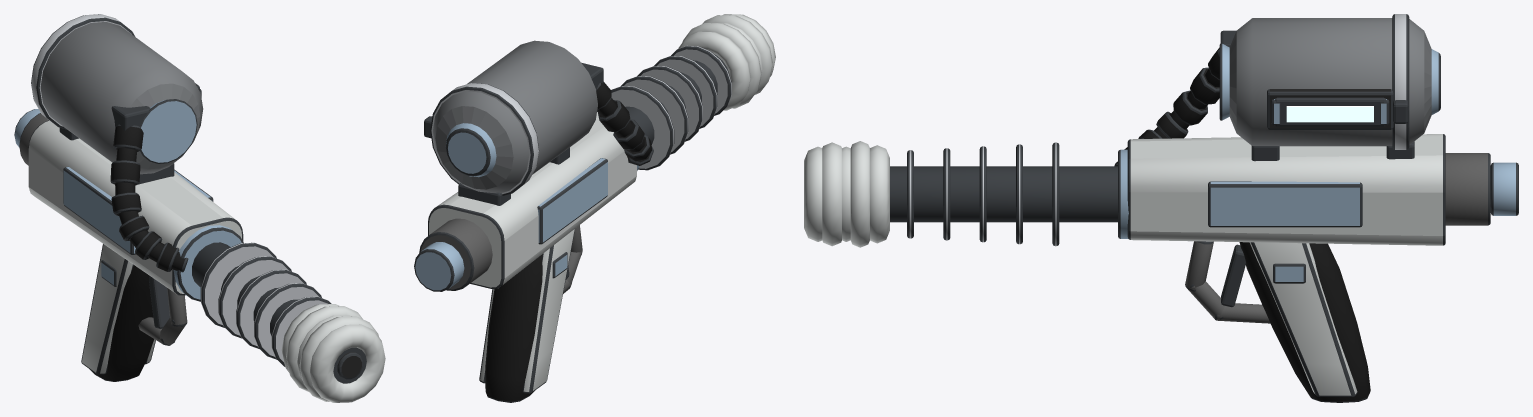
Rendered from cryo_sprayer.fbx.
3 renders of one model, left to right at view 1: azimuth 30°, elevation 25°; view 2: azimuth 150°, elevation 25°; view 3: azimuth 270°, elevation 25°, orthographic. The views are drawn at different scales.
Visible parts, largest first — view 1: Mesh_CryoSprayer_Bottle, Mesh_CryoSprayer_Body, Mesh_CryoSprayer_Barrel, Mesh_CryoSprayer_Grip, Mesh_CryoSprayer_Rime, Mesh_CryoSprayer_Line, Mesh_CryoSprayer_Saddle, Mesh_CryoSprayer_Breech; view 2: Mesh_CryoSprayer_Bottle, Mesh_CryoSprayer_Body, Mesh_CryoSprayer_Grip, Mesh_CryoSprayer_Barrel, Mesh_CryoSprayer_Rime, Mesh_CryoSprayer_Breech, Mesh_CryoSprayer_Saddle, Mesh_CryoSprayer_Line; view 3: Mesh_CryoSprayer_Body, Mesh_CryoSprayer_Bottle, Mesh_CryoSprayer_Grip, Mesh_CryoSprayer_Barrel, Mesh_CryoSprayer_Rime, Mesh_CryoSprayer_Gauge, Mesh_CryoSprayer_Breech, Mesh_CryoSprayer_Saddle, Mesh_CryoSprayer_Line.
Part boxes in pixels (x1,y1,x2,y2): Mesh_CryoSprayer_Bottle: (40,22,203,174); Mesh_CryoSprayer_Body: (28,120,243,301); Mesh_CryoSprayer_Barrel: (192,242,366,383); Mesh_CryoSprayer_Grip: (81,244,187,381); Mesh_CryoSprayer_Rime: (281,304,385,402); Mesh_CryoSprayer_Line: (110,124,188,272); Mesh_CryoSprayer_Saddle: (31,14,174,184); Mesh_CryoSprayer_Breech: (14,109,48,165); Mesh_CryoSprayer_Bottle: (433,40,603,192); Mesh_CryoSprayer_Body: (428,112,639,288); Mesh_CryoSprayer_Grip: (479,225,582,402); Mesh_CryoSprayer_Barrel: (597,45,731,170); Mesh_CryoSprayer_Rime: (678,14,775,110); Mesh_CryoSprayer_Breech: (414,218,492,291); Mesh_CryoSprayer_Saddle: (424,83,569,205); Mesh_CryoSprayer_Line: (596,82,653,165); Mesh_CryoSprayer_Body: (1118,134,1445,245); Mesh_CryoSprayer_Bottle: (1219,18,1440,146); Mesh_CryoSprayer_Grip: (1185,241,1370,402); Mesh_CryoSprayer_Barrel: (890,142,1117,246); Mesh_CryoSprayer_Rime: (804,141,889,247); Mesh_CryoSprayer_Gauge: (1267,89,1393,129); Mesh_CryoSprayer_Breech: (1445,153,1518,225); Mesh_CryoSprayer_Saddle: (1251,14,1414,161); Mesh_CryoSprayer_Line: (1114,47,1219,166).
Size of the model in its own units: 11.72 by 29.28 by 50.8.
